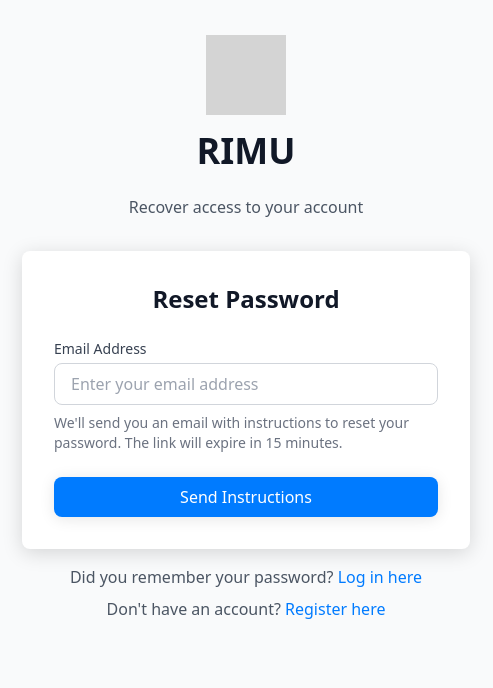
Scenario: ForgotPassword Page › shows error message on failed password reset request
Ingresar email
Type "nonexistent@example.com" into the field labelled "Email Address" at (246, 384), box [54,363,438,405]
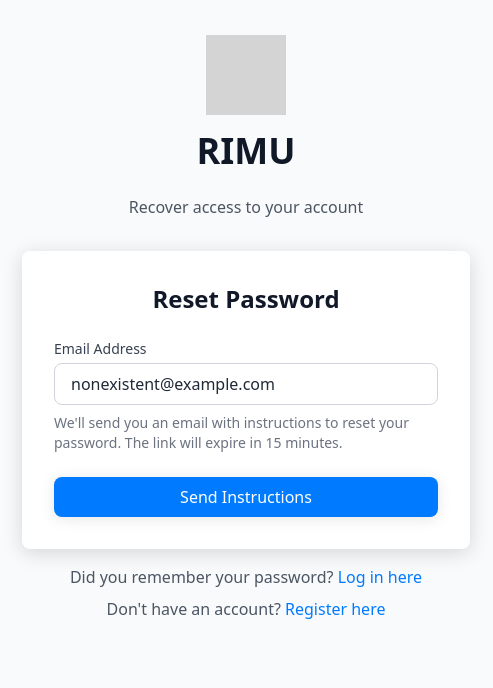
Click the button "Send Instructions" at (246, 497), box [54,477,438,517]
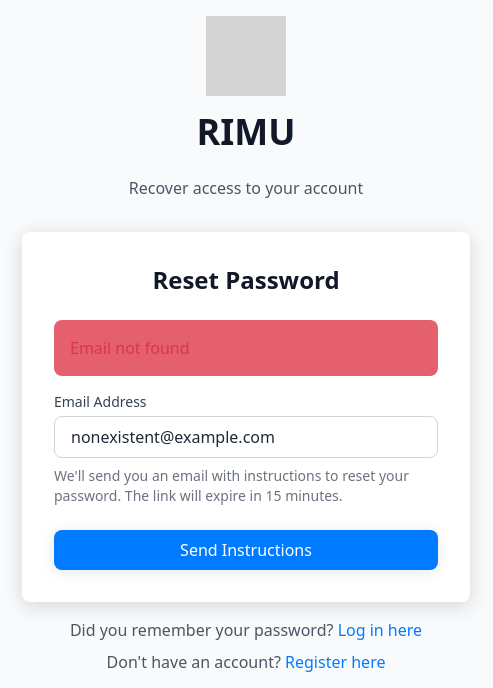
Check: the text "Email not found" is shown, box [54,320,438,376]
